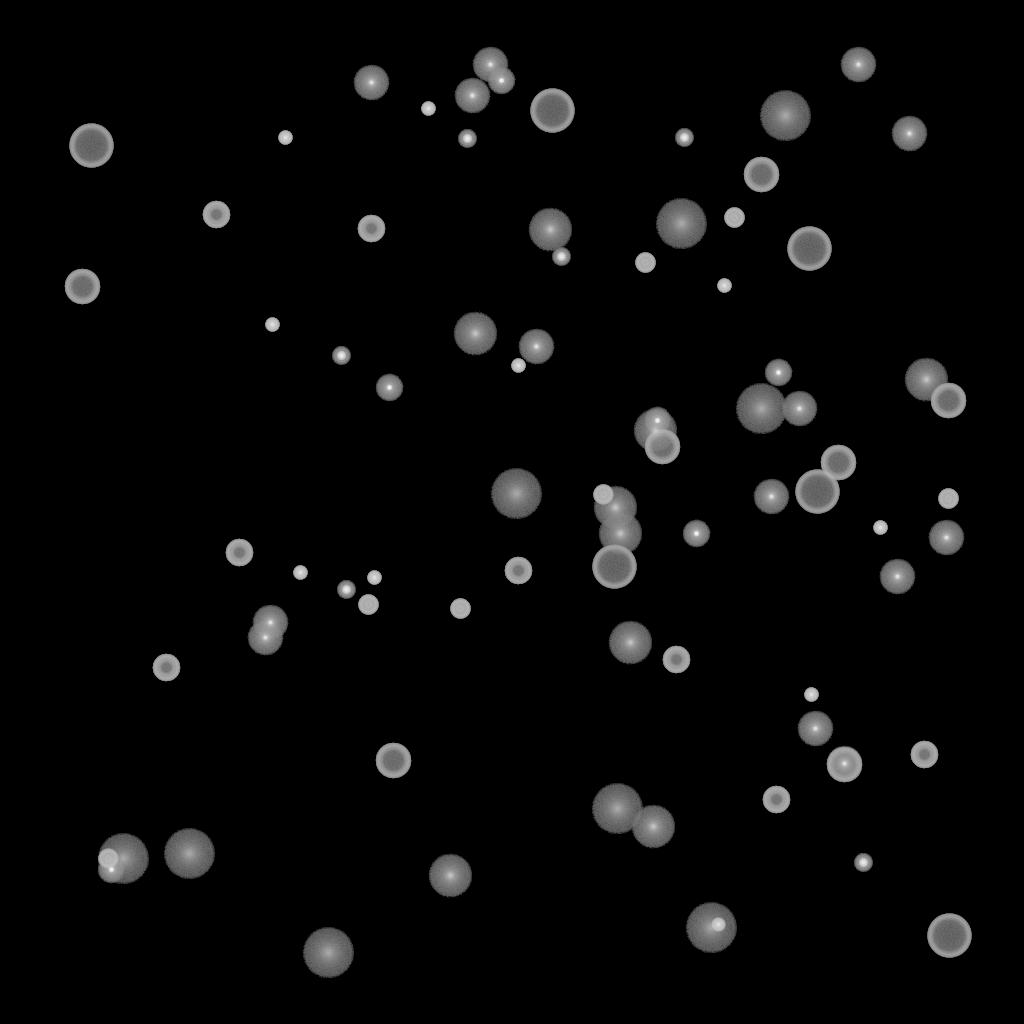depth:-10: (643, 407, 671, 435), (375, 374, 403, 402), (764, 359, 792, 387), (97, 856, 125, 884), (682, 520, 710, 548), (487, 67, 515, 95)
depth:-20: (332, 347, 350, 365), (854, 854, 872, 872), (675, 129, 693, 147), (458, 130, 476, 148), (552, 248, 570, 266), (337, 581, 355, 599)
depth:-30: (278, 131, 292, 145), (265, 318, 279, 332), (293, 566, 307, 580), (511, 359, 525, 373), (711, 918, 725, 932), (804, 688, 818, 702), (421, 102, 435, 116), (367, 571, 381, 585), (873, 521, 887, 535), (717, 279, 731, 293)
depth:-40: (938, 489, 958, 509), (98, 849, 118, 869), (724, 208, 744, 228), (593, 485, 613, 505), (358, 595, 378, 615), (450, 599, 470, 619), (635, 253, 655, 273)
depth:-50: (202, 201, 230, 229), (225, 539, 253, 567), (662, 646, 690, 674), (910, 741, 938, 769), (357, 215, 385, 243), (504, 557, 532, 585), (762, 786, 790, 814), (152, 654, 180, 682)
depth:-60: (64, 269, 100, 305), (826, 747, 862, 783), (644, 429, 680, 465), (375, 743, 411, 779), (820, 445, 856, 481), (930, 383, 966, 419), (743, 157, 779, 193)
depth:-70: (787, 227, 831, 271), (69, 124, 113, 168), (530, 89, 574, 133), (927, 914, 971, 958), (795, 470, 839, 514), (592, 545, 636, 589)
depth:0: (797, 711, 833, 747), (826, 746, 862, 782), (472, 47, 508, 83), (518, 329, 554, 365), (353, 65, 389, 101), (781, 391, 817, 427), (252, 605, 288, 641), (247, 620, 283, 656), (879, 559, 915, 595), (891, 116, 927, 152), (454, 78, 490, 114), (840, 47, 876, 83), (928, 520, 964, 556), (753, 479, 789, 515)
depth:10: (453, 312, 497, 356), (631, 805, 675, 849), (428, 854, 472, 898), (633, 409, 677, 453), (528, 208, 572, 252), (593, 486, 637, 530), (598, 512, 642, 556), (608, 621, 652, 665), (904, 358, 948, 402)
depth:20: (735, 384, 787, 434), (759, 91, 811, 141), (655, 199, 707, 249), (685, 903, 737, 953), (163, 829, 215, 879), (591, 784, 643, 834), (302, 928, 354, 978), (97, 834, 149, 884), (490, 469, 542, 519)
